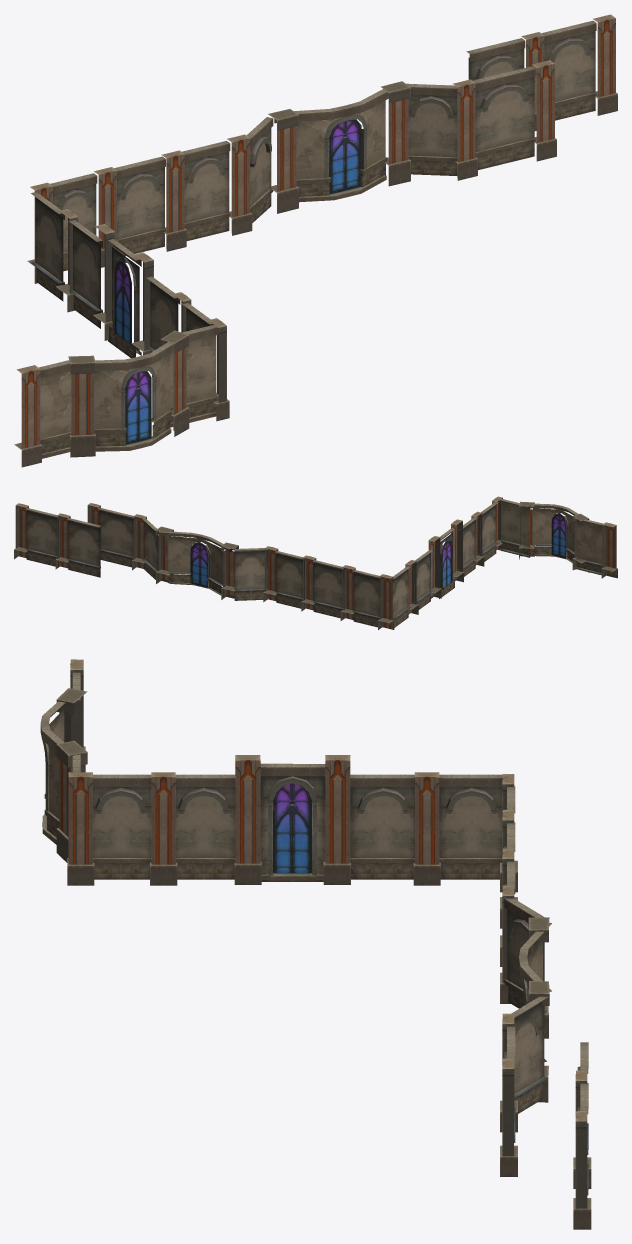
The model's file is terrain_section03_guanka11_bj02.FBX.
The picture shows the model from 3 angles, top to bottom: view 1: azimuth 30°, elevation 25°; view 2: azimuth 150°, elevation 25°; view 3: azimuth 270°, elevation 25°; orthographic projection. The views are drawn at different scales.
Visible parts, largest first — view 1: terrain_section03_guanka11_bj02; view 2: terrain_section03_guanka11_bj02; view 3: terrain_section03_guanka11_bj02.
Part boxes in pixels (left/top/right/bottom): terrain_section03_guanka11_bj02: left=14, top=14, right=617, bottom=467; terrain_section03_guanka11_bj02: left=14, top=496, right=617, bottom=629; terrain_section03_guanka11_bj02: left=40, top=659, right=591, bottom=1229.
Bounding box in the file's own units: 50.98 × 6.48 × 25.7.
